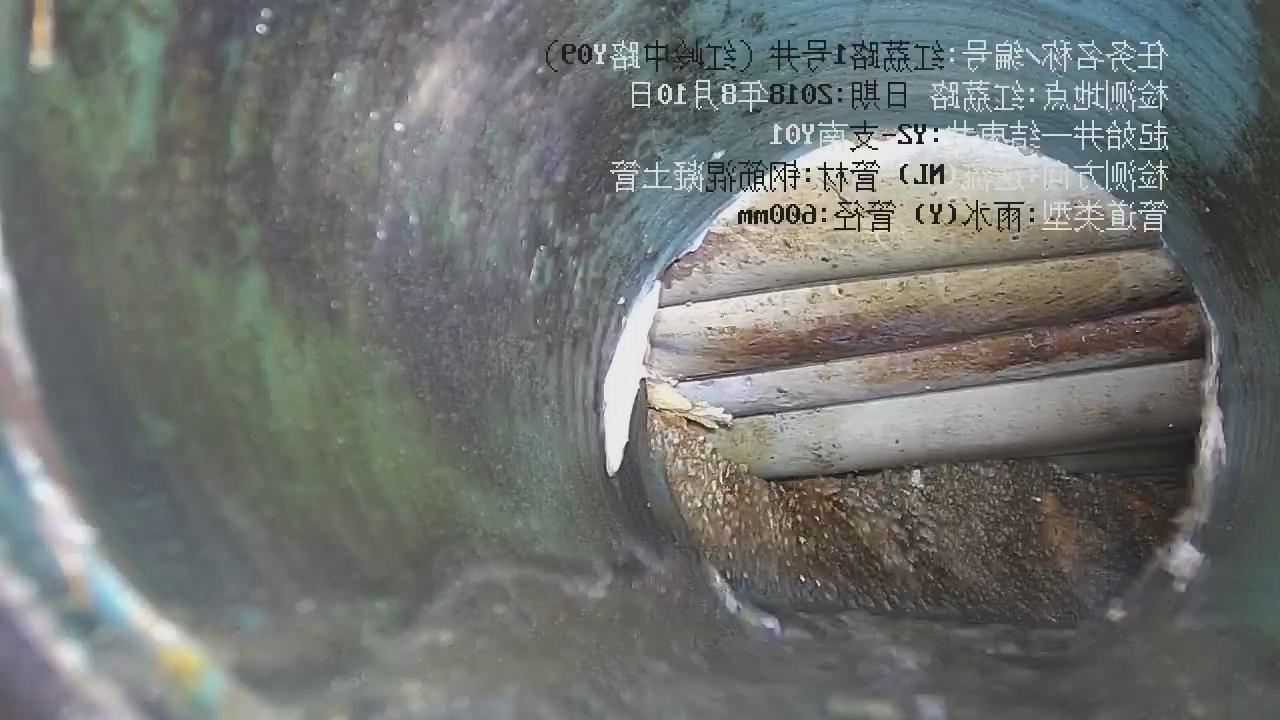YWCR: (646, 130, 1201, 477)
